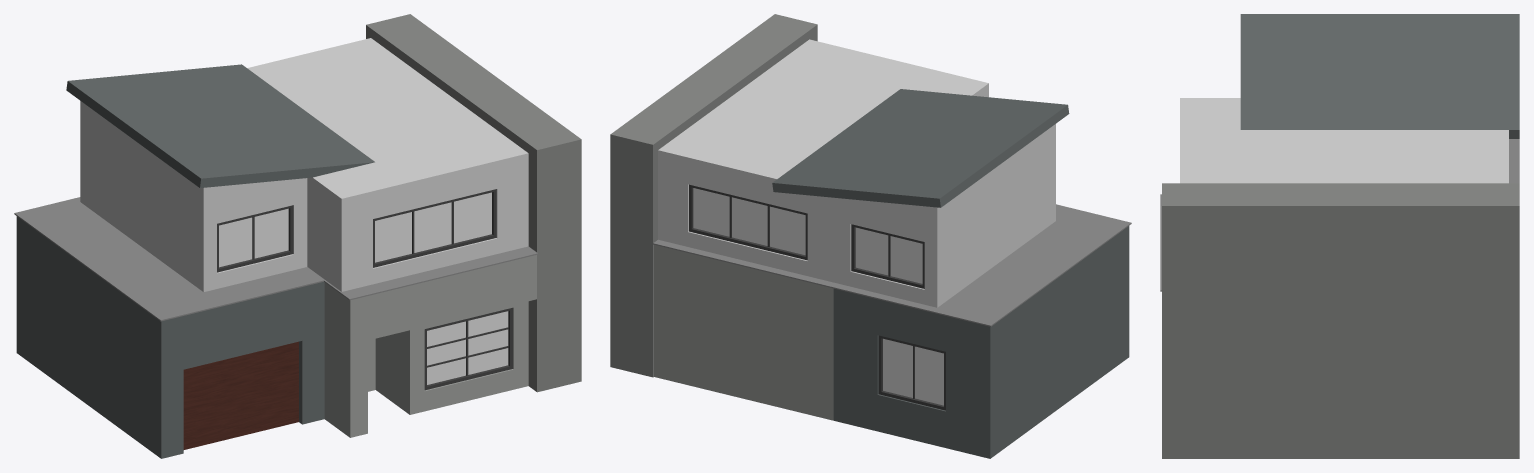
File: modern_house.fbx
3 renders of one model, left to right at view 1: azimuth 30°, elevation 25°; view 2: azimuth 150°, elevation 25°; view 3: azimuth 270°, elevation 25°, orthographic. The views are drawn at different scales.
Visible parts, largest first — view 1: modern building 1; view 2: modern building 1; view 3: modern building 1.
Part boxes in pixels (x1,y1,x2,y2): modern building 1: (14, 14, 581, 458); modern building 1: (610, 14, 1131, 458); modern building 1: (1160, 14, 1519, 458).
Bounding box in the file's own units: 1335 × 834 × 1005.
